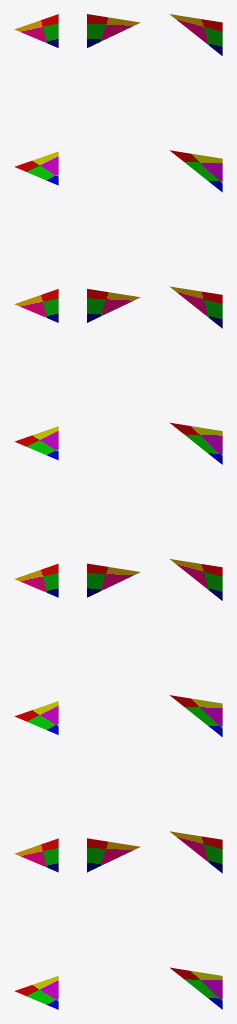
The model's file is basecolor-jpeg.glb.
3 renders of one model, left to right at view 1: azimuth 30°, elevation 25°; view 2: azimuth 150°, elevation 25°; view 3: azimuth 330°, elevation 25°, orthographic.
Size of the model in its own units: 3 by 58 by 0.5.
2 materials, 2 textured.
